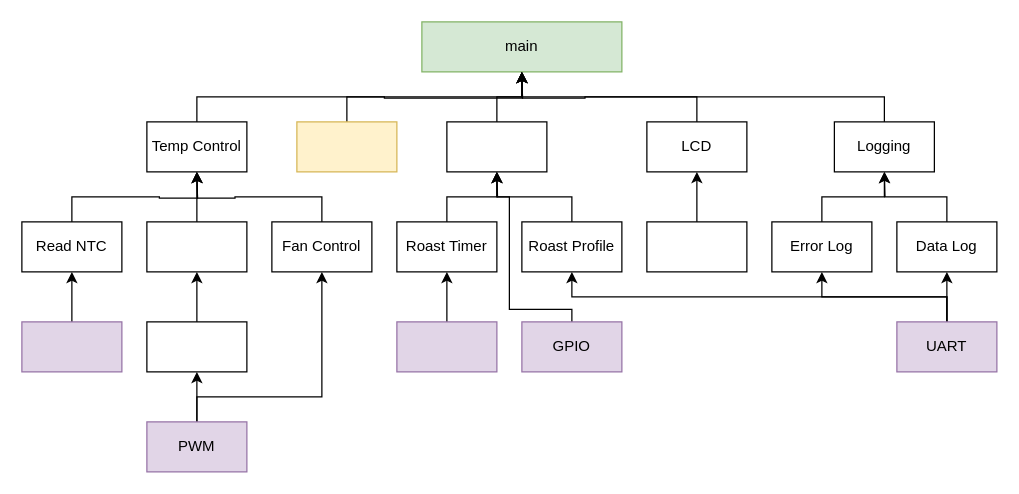
This 1019x494 diagram has some shape labels left out. The centre of each missing label's shape, as x and y in pixels:
"ADC" goes at point 71,346.
"Heater Control" goes at point 196,346.
"I/O Pin Mapping" goes at point 346,146.
"LCD Parallel Interface" goes at point 696,246.
"PID" goes at point 196,246.
"Roast" goes at point 496,146.
"Timer" goes at point 446,346.
